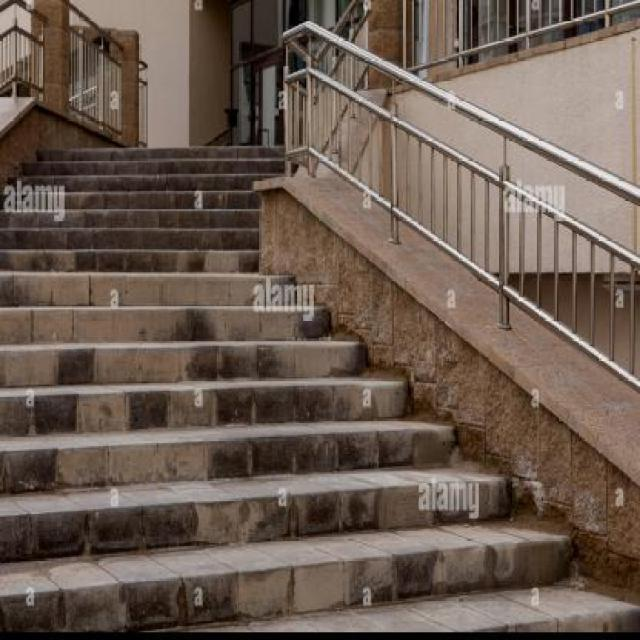stair: (1, 68, 338, 624)
